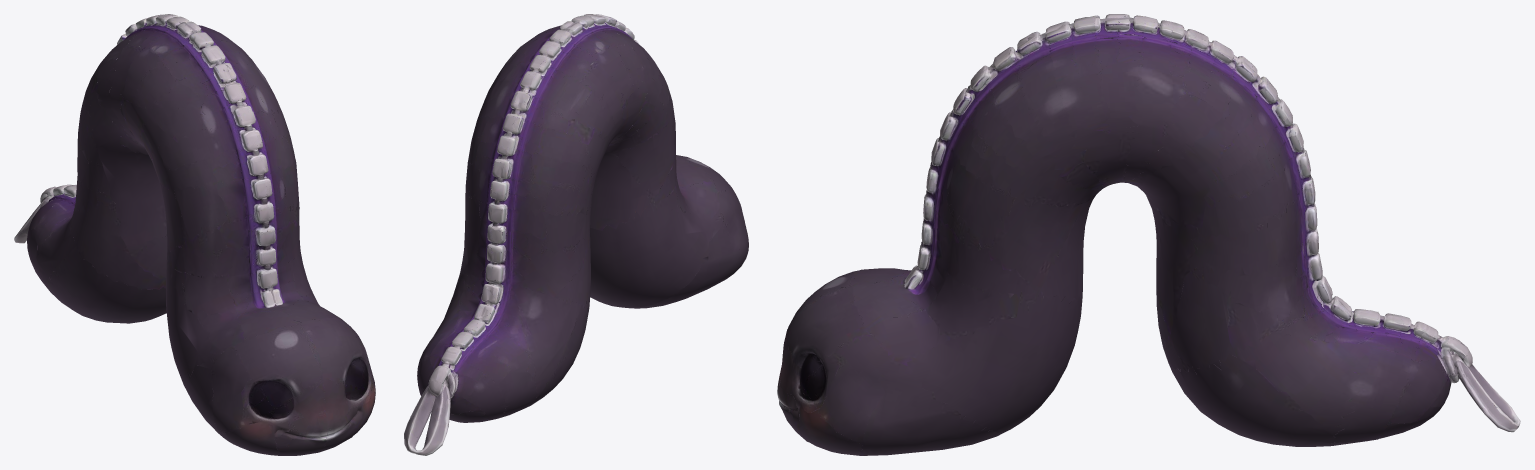
The picture shows the model from 3 angles, left to right: view 1: azimuth 30°, elevation 25°; view 2: azimuth 150°, elevation 25°; view 3: azimuth 270°, elevation 25°; orthographic projection. The views are drawn at different scales.
Visible parts, largest first — view 1: Mesh_0; view 2: Mesh_0; view 3: Mesh_0.
Boxes of the visible parts, left/top/right/bottom form: Mesh_0: left=14, top=14, right=375, bottom=455; Mesh_0: left=404, top=14, right=748, bottom=455; Mesh_0: left=777, top=14, right=1520, bottom=455.
Size of the model in its own units: 0.5599 by 1.16 by 1.9.
1 material, 1 textured.
